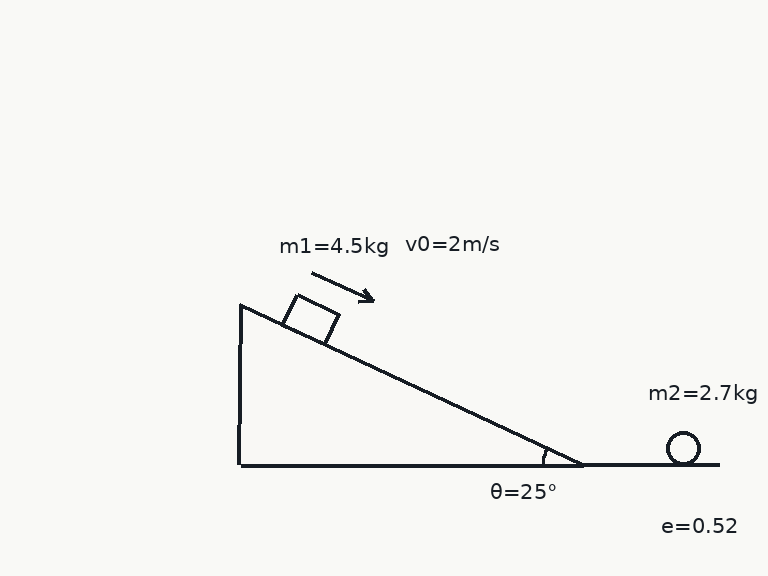ball: (664, 429, 702, 467)
block: (280, 292, 341, 346)
ramp: (238, 303, 585, 467)
